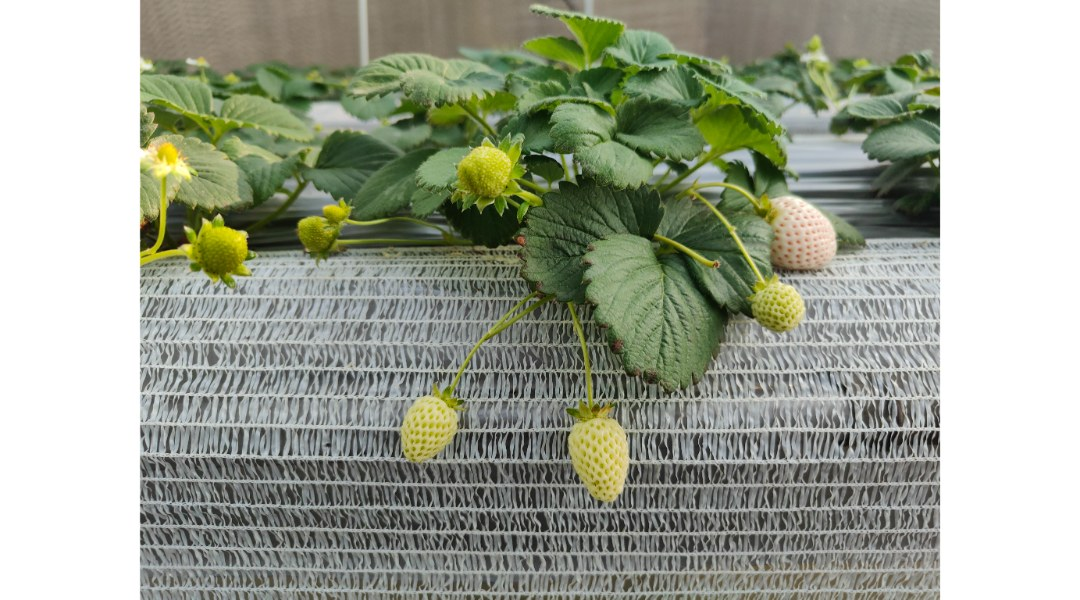berry: (548, 397, 645, 511), (752, 172, 851, 282), (447, 127, 530, 211), (181, 214, 260, 287), (137, 129, 205, 189), (283, 200, 347, 259), (744, 273, 805, 329), (129, 180, 173, 256), (314, 182, 368, 227)
strain: (394, 385, 477, 483), (561, 311, 606, 420), (708, 205, 762, 269), (652, 233, 725, 273), (446, 343, 480, 408)
